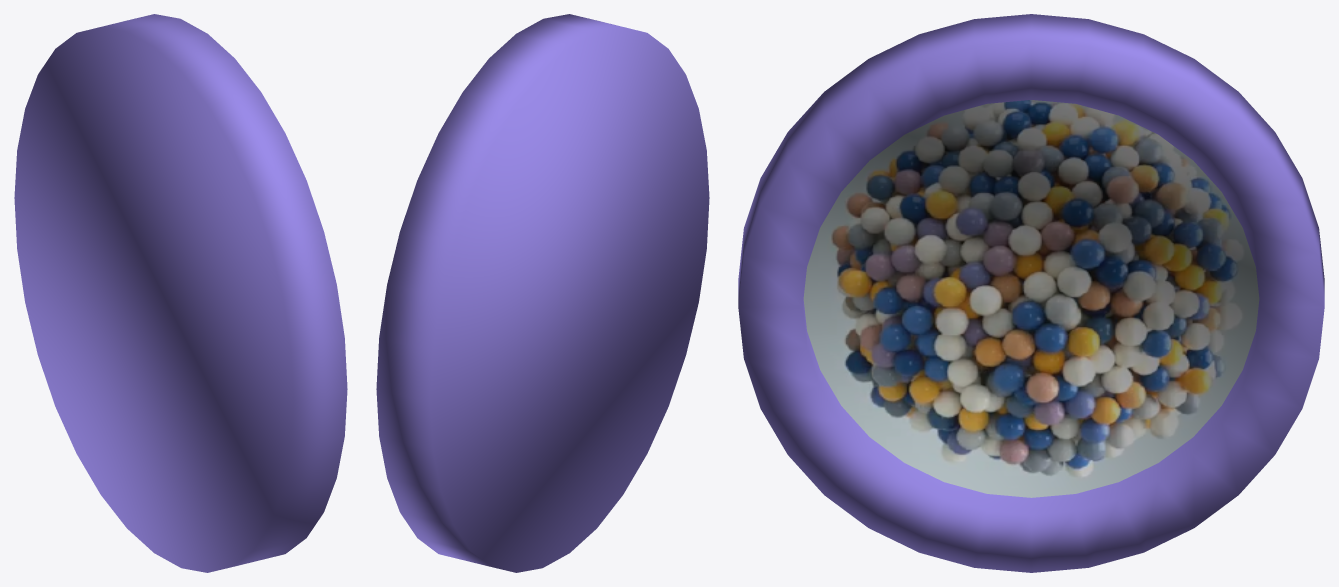
3 views of the same model, side by side, from view 1: azimuth 30°, elevation 25°; view 2: azimuth 150°, elevation 25°; view 3: azimuth 270°, elevation 25° (orthographic). The views are drawn at different scales.
Visible parts, largest first — view 1: Circle; view 2: Circle; view 3: Circle.
Boxes of the visible parts, x1=… form: Circle: x1=14, y1=14, x2=347, y2=572; Circle: x1=376, y1=14, x2=709, y2=572; Circle: x1=738, y1=14, x2=1324, y2=572.
Bounding box in the file's own units: 0.2224 × 2 × 2.
2 materials, 1 textured.
